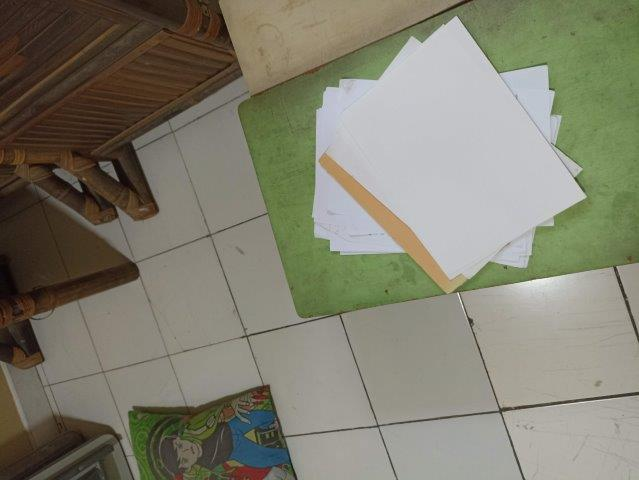kertas: (310, 15, 588, 294)
